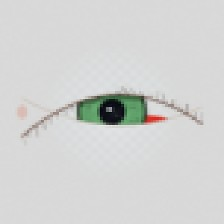hemorrhage_spot: (93, 89, 193, 170)
